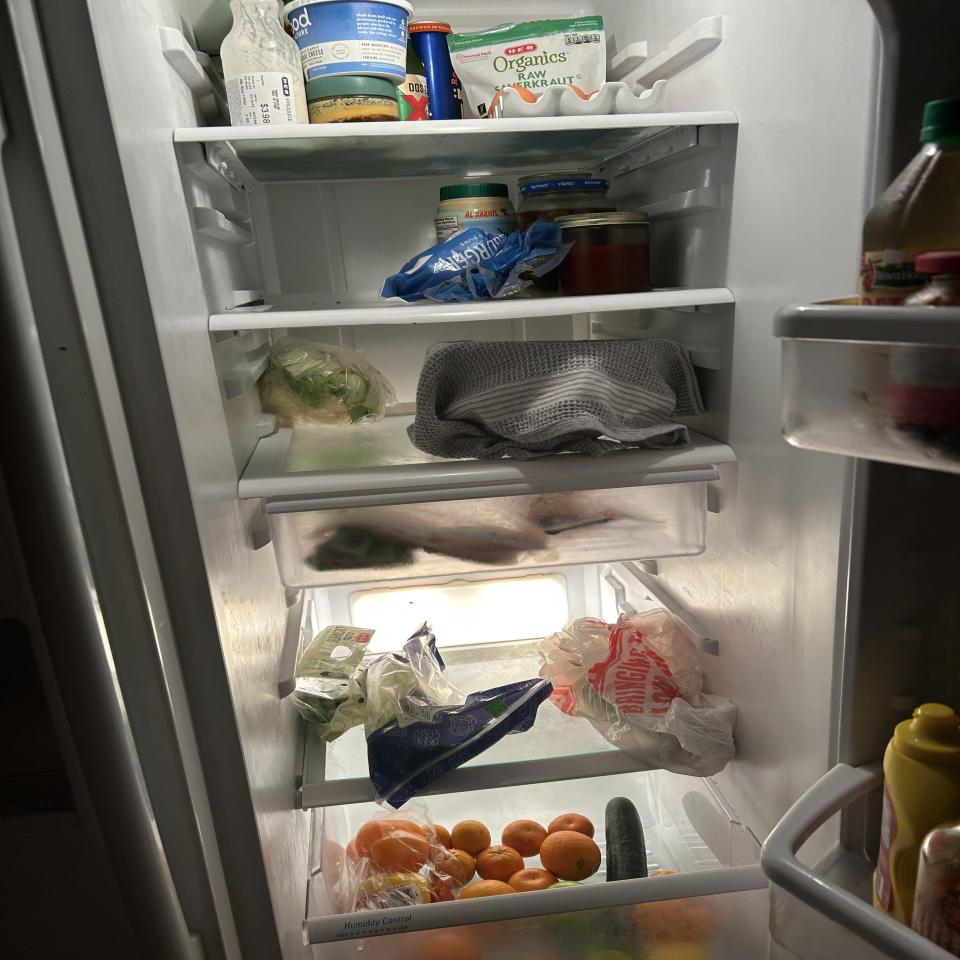Huevos: (485, 80, 672, 116)
Pepino: (606, 798, 648, 881)
bell pepper: (346, 821, 429, 874)
mustard: (869, 704, 960, 933)
orange: (542, 832, 600, 881), (502, 819, 547, 857), (479, 846, 523, 880), (436, 850, 474, 884), (453, 821, 490, 854), (510, 869, 559, 891), (548, 814, 595, 836), (462, 880, 513, 899), (421, 821, 452, 850)
